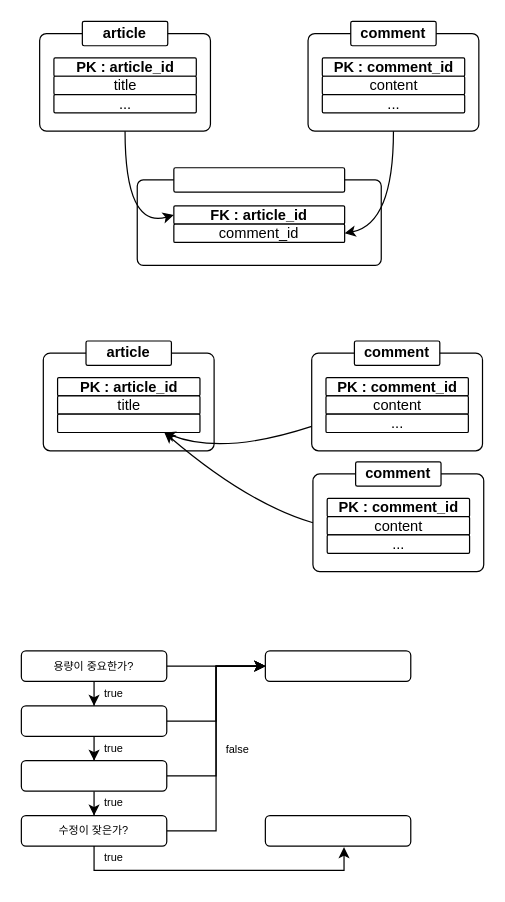
The diagram is 505 pixels wide and 902 high, and some of its shapes have lost their labels. The shapes that lost their labels are listed below. From the top down, each one's centre as x and y in pixels, then its label:
At point 259,179: "article_and_comment".
At point 128,422: "comments: [ ... ]".
At point 337,665: "Linked Pattern".
At point 93,720: "일관성이 중요한가?".
At point 93,775: "용량을 고려해야 하는가?".
At point 337,830: "Embedded Pattern".
